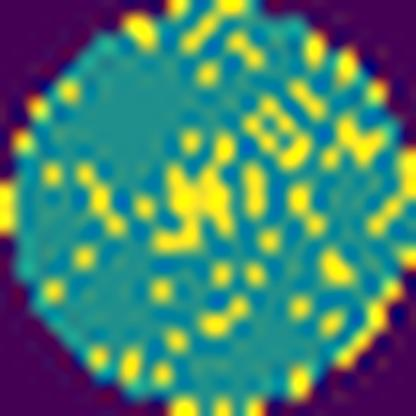Center: (159, 161, 232, 256)
